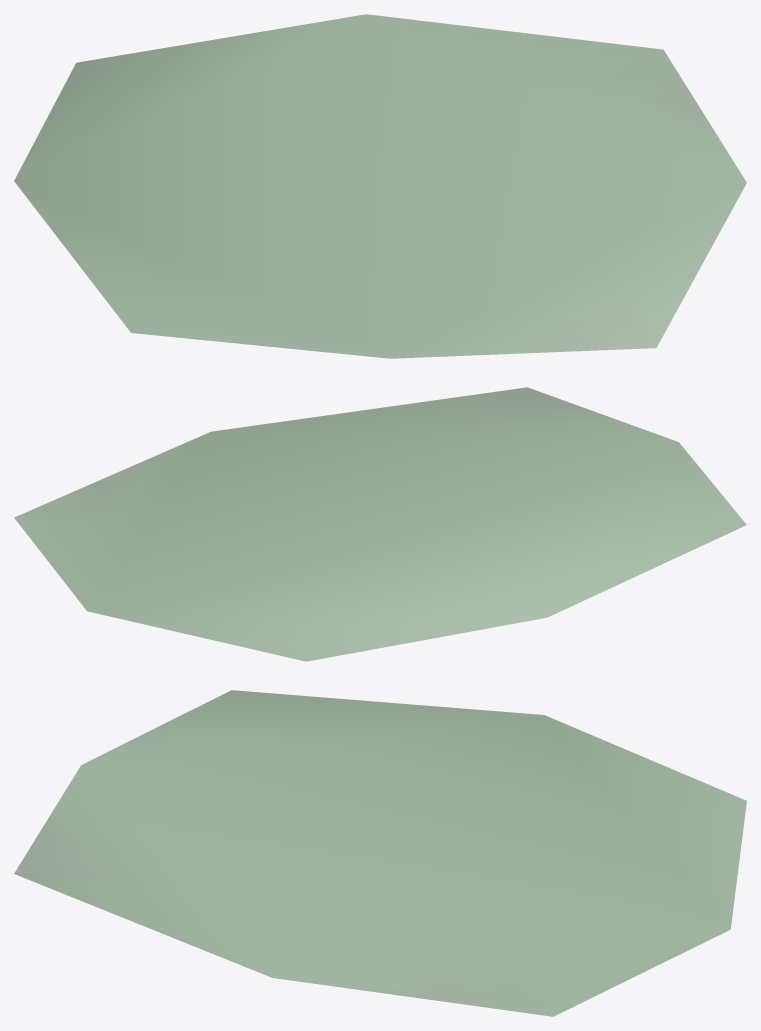
File: TROLLHOLE02_HOLECAP144.fbx
The picture shows the model from 3 angles, top to bottom: view 1: azimuth 30°, elevation 25°; view 2: azimuth 150°, elevation 25°; view 3: azimuth 270°, elevation 25°; orthographic projection. The views are drawn at different scales.
Parts seen in each view (by area): view 1: TROLLHOLE02_HOLECAP144; view 2: TROLLHOLE02_HOLECAP144; view 3: TROLLHOLE02_HOLECAP144.
Part boxes in pixels (left/top/right/bottom): TROLLHOLE02_HOLECAP144: left=14, top=14, right=746, bottom=358; TROLLHOLE02_HOLECAP144: left=14, top=387, right=746, bottom=661; TROLLHOLE02_HOLECAP144: left=14, top=690, right=746, bottom=1016.
Size of the model in its own units: 28410 by 1210 by 29187.
Materials: 1 (1 with a texture image).
